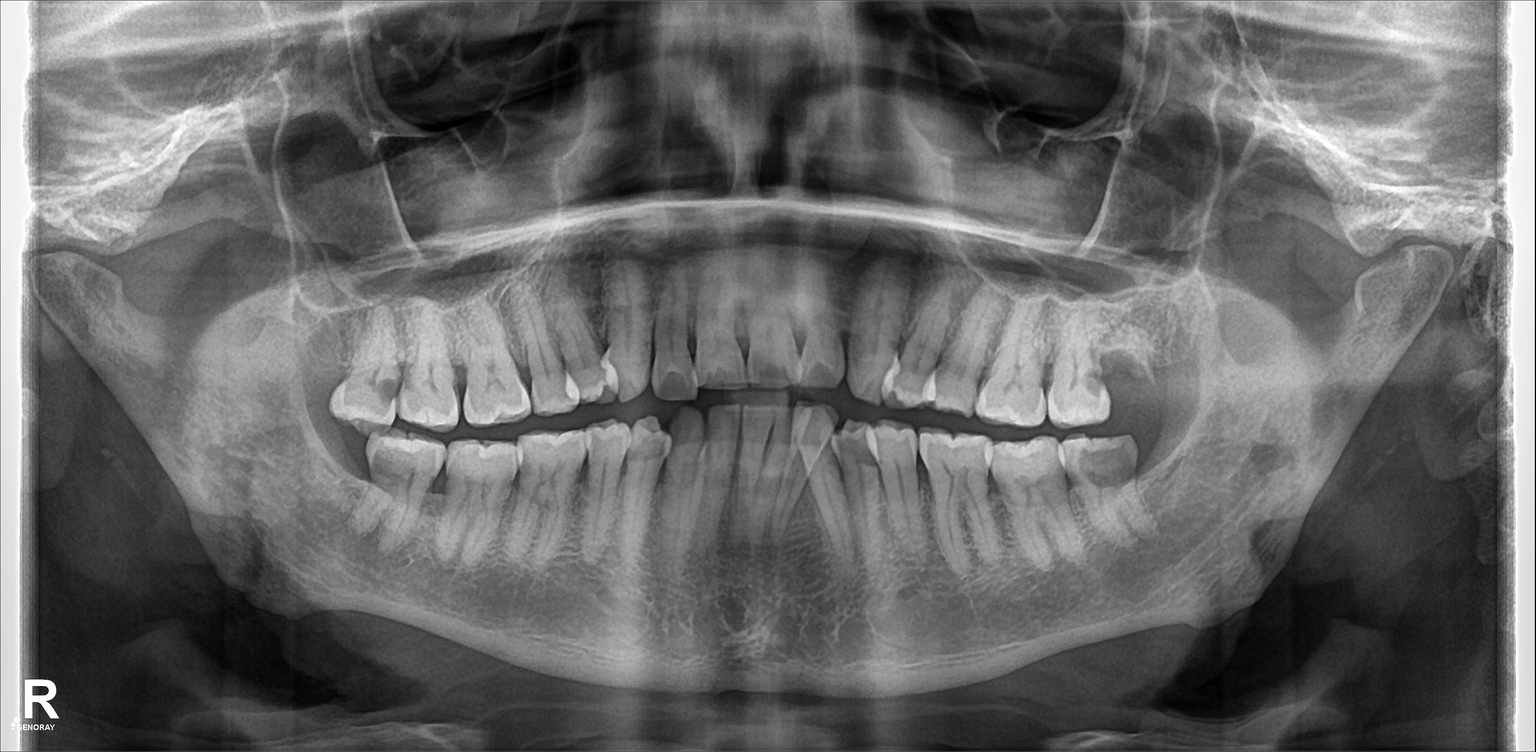Dental Caries: (1080, 445, 1131, 487), (365, 361, 396, 410), (657, 374, 690, 396)
Missing Tooth: (291, 316, 344, 425), (1102, 329, 1159, 422)
